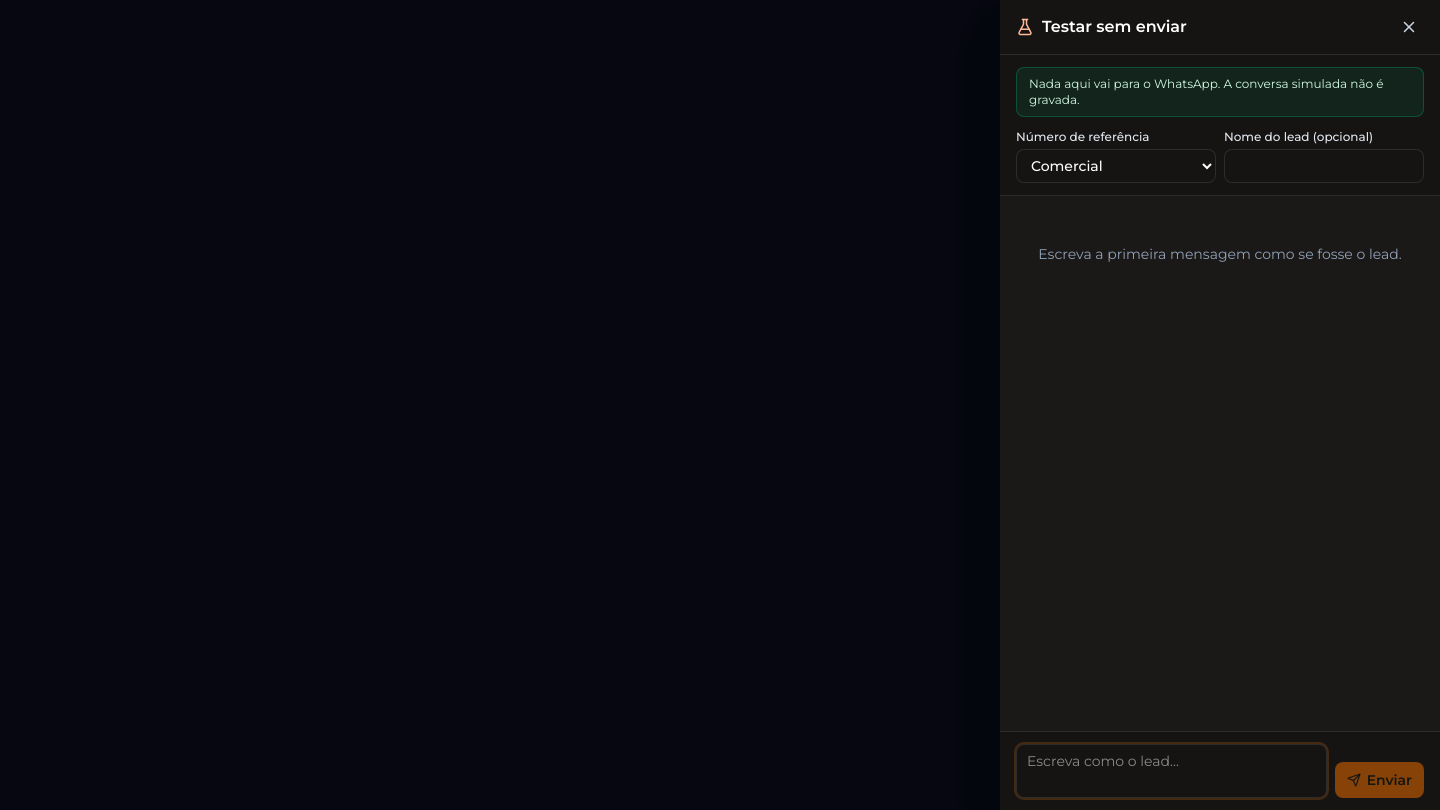
Test case: PainelDeTeste › "O que o agente fez" mostra só o que veio: repasse com motivo, horário pedido, nome captado, tempo, tokens e a versão
This screenshot has width=1440, height=810.
Type "Quero marcar amanhã às 14h" into the text box named "Mensagem do lead". click: {"x": 1171, "y": 771}
box: [1016,744,1327,798]
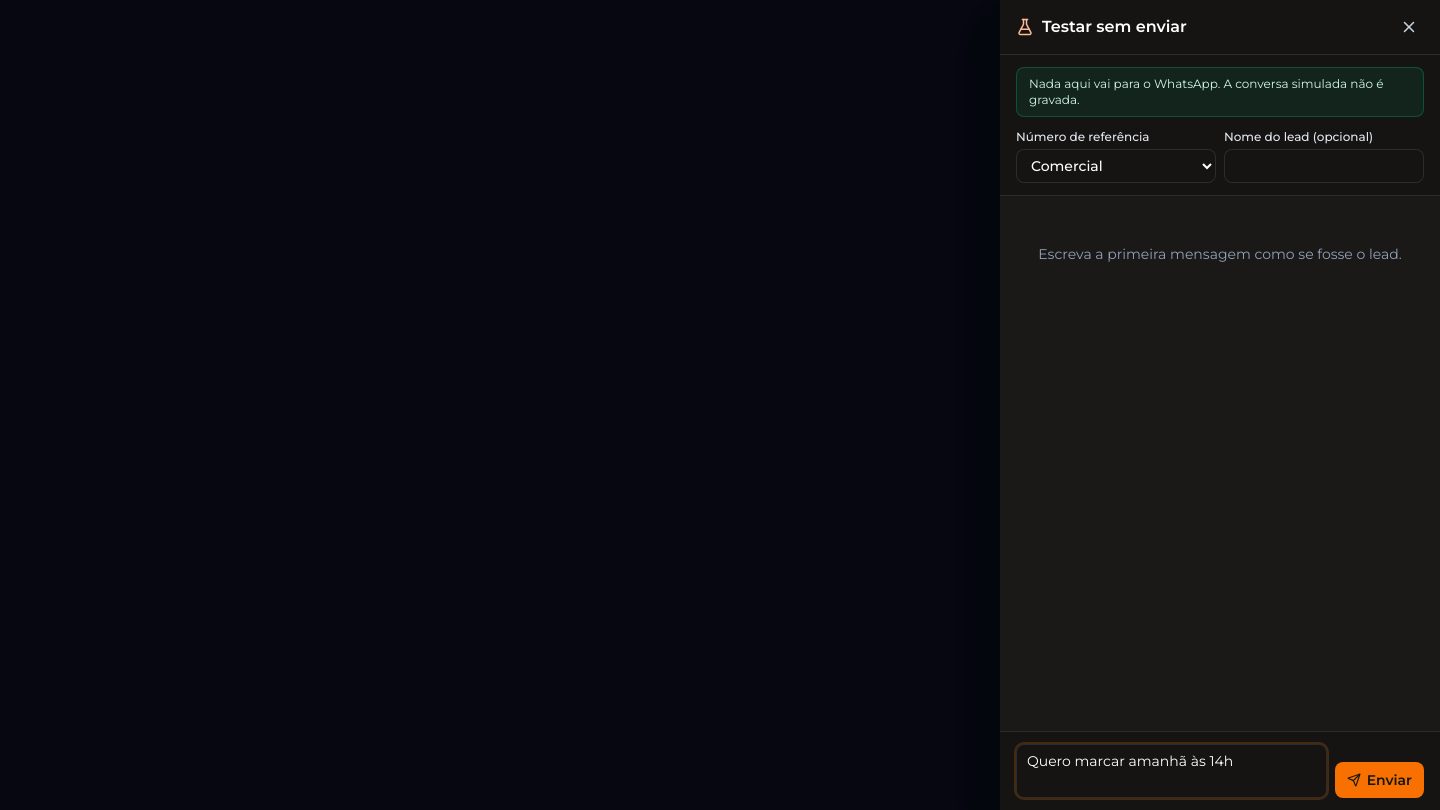
Click the button "Enviar". click: {"x": 1379, "y": 780}
box: [1335,762,1424,798]
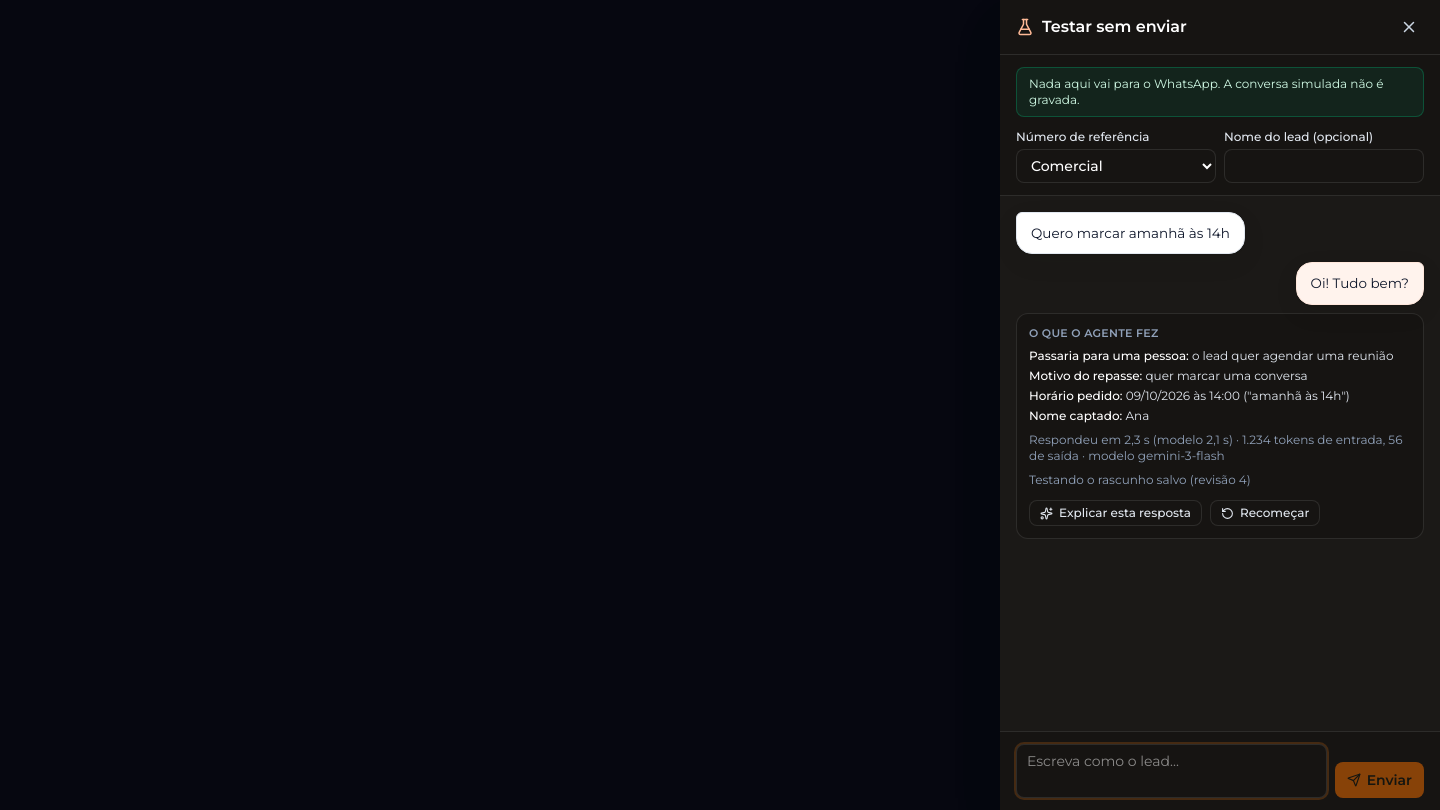
Check: the text "o lead quer agendar uma reunião" is shown, box [1192,348,1393,363]
Check: the text "quer marcar uma conversa" is shown, box [1146,368,1308,383]
Check: the text "09/10/2026 às 14:00 (\"amanhã às 14h\")" is shown, box [1126,388,1350,403]
